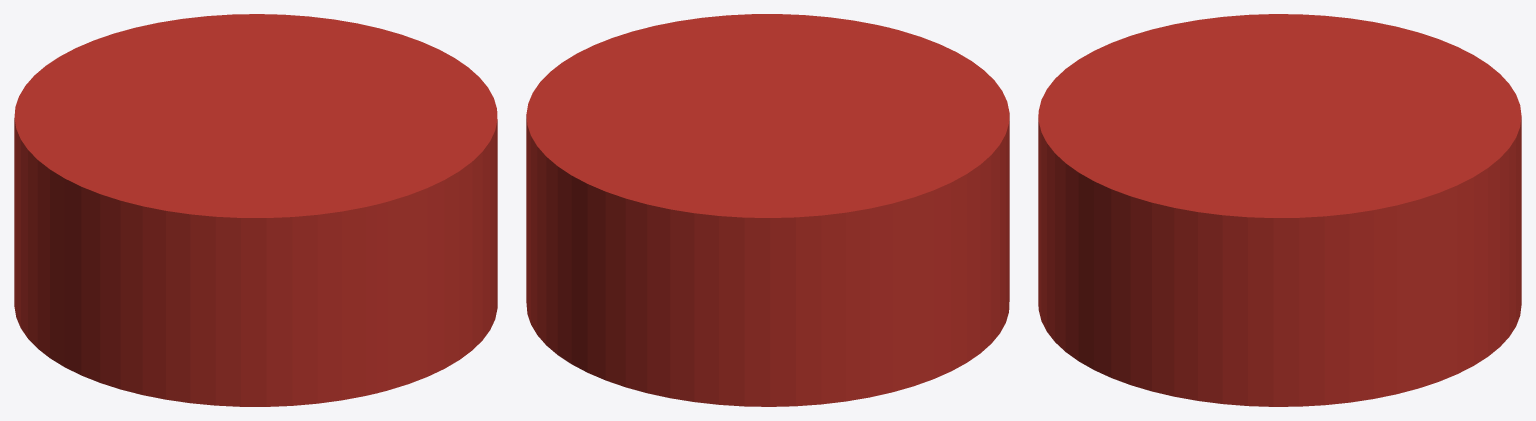
3 renders of one model, left to right at view 1: azimuth 30°, elevation 25°; view 2: azimuth 150°, elevation 25°; view 3: azimuth 270°, elevation 25°, orthographic.
Parts seen in each view (by area): view 1: H26-H27; view 2: H26-H27; view 3: H26-H27.
Boxes of the visible parts, x1,y1,x2,y2 form: H26-H27: [14, 14, 497, 406]; H26-H27: [526, 14, 1009, 406]; H26-H27: [1038, 14, 1521, 406].
Size of the model in its own units: 15.99 by 6.9 by 16.
